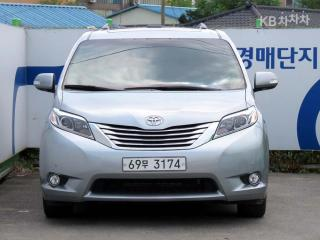1: (160, 159, 167, 170)
3: (153, 159, 162, 171)
4: (174, 158, 182, 170)
6: (128, 158, 135, 171)
7: (167, 158, 174, 169)
9: (135, 158, 141, 170)
plate: (119, 155, 190, 174)
무: (141, 159, 150, 169)
